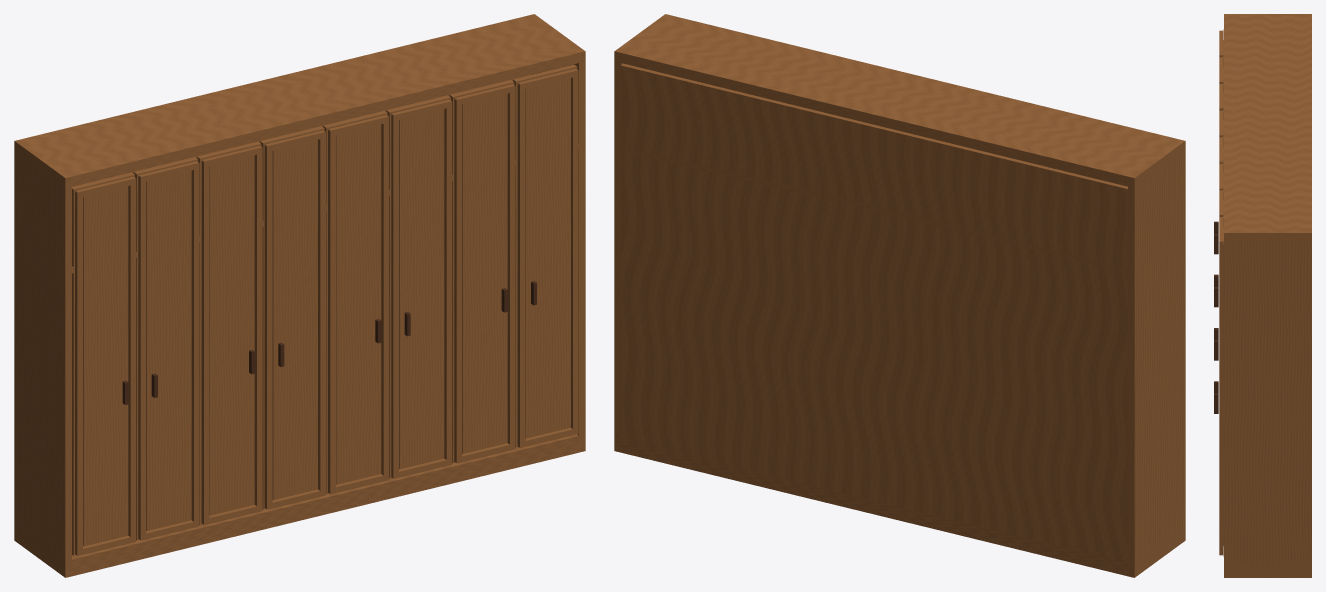
Rendered from wardrobe.glb.
3 views of the same model, side by side, from view 1: azimuth 30°, elevation 25°; view 2: azimuth 150°, elevation 25°; view 3: azimuth 270°, elevation 25° (orthographic). The views are drawn at different scales.
Parts seen in each view (by area): view 1: inset-panel (×8), wood (×20), full-door-6, full-door-2, full-door-8, full-door-7, full-door-3, full-door-1, full-door-4, full-door-5; view 2: wood (×6); view 3: wood (×4), full-door-8, inset-panel.
Boxes of the visible parts, left/top/right/bottom form: inset-panel (×8): left=83, top=78, right=569, bottom=545; wood (×20): left=14, top=14, right=585, bottom=577; full-door-6: left=386, top=95, right=450, bottom=478; full-door-2: left=133, top=157, right=197, bottom=540; full-door-8: left=513, top=64, right=577, bottom=447; full-door-7: left=449, top=80, right=514, bottom=463; full-door-3: left=197, top=141, right=261, bottom=524; full-door-1: left=72, top=172, right=134, bottom=555; full-door-4: left=260, top=126, right=324, bottom=509; full-door-5: left=323, top=110, right=387, bottom=493; wood (×6): left=614, top=14, right=1185, bottom=577; wood (×4): left=1219, top=14, right=1311, bottom=577; full-door-8: left=1223, top=215, right=1223, bottom=556; inset-panel: left=1223, top=226, right=1223, bottom=545.
Bounding box in the file's own units: 3.24 × 2.38 × 0.611.
2 materials, 1 textured.
